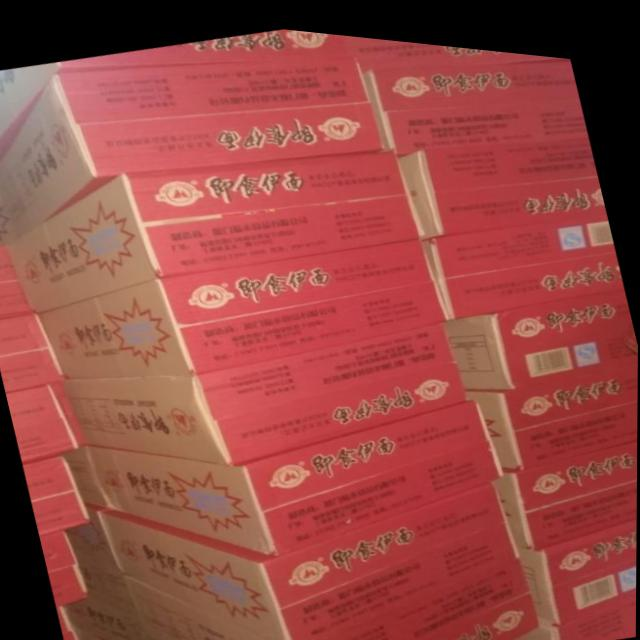box: (0, 48, 386, 244), (7, 141, 421, 312), (106, 470, 521, 640), (90, 389, 505, 549), (38, 229, 447, 378), (66, 313, 471, 460), (0, 23, 354, 162), (359, 48, 588, 147), (299, 547, 541, 640), (395, 123, 607, 228), (422, 201, 625, 310), (444, 274, 638, 380), (468, 349, 638, 463), (493, 427, 638, 539), (518, 504, 637, 614), (129, 573, 290, 640), (346, 28, 570, 62), (503, 586, 637, 640), (63, 562, 154, 640), (7, 377, 89, 463), (23, 452, 92, 535), (0, 312, 66, 392), (66, 501, 126, 570), (40, 529, 93, 607), (0, 245, 36, 317), (68, 447, 113, 504), (62, 604, 82, 640)
